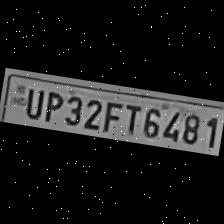1: (199, 113, 221, 150)
2: (80, 94, 104, 132)
3: (60, 91, 86, 127)
4: (159, 106, 183, 143)
6: (138, 102, 162, 140)
8: (178, 110, 202, 146)
F: (100, 96, 124, 134)
P: (42, 88, 66, 124)
T: (119, 100, 142, 136)
U: (22, 86, 45, 119)
